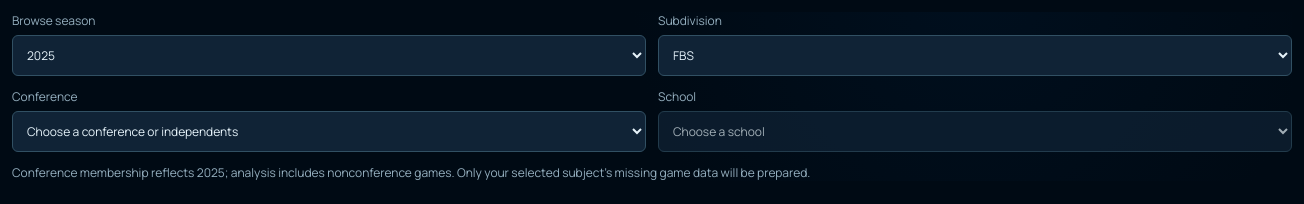
Scenario: loads only selected conference metadata, ignores stale responses, and exposes retryable errors
Select "Old Conference" in the dropdown labelled "Conference": x=329, y=132 left=12, top=111, right=646, bottom=152
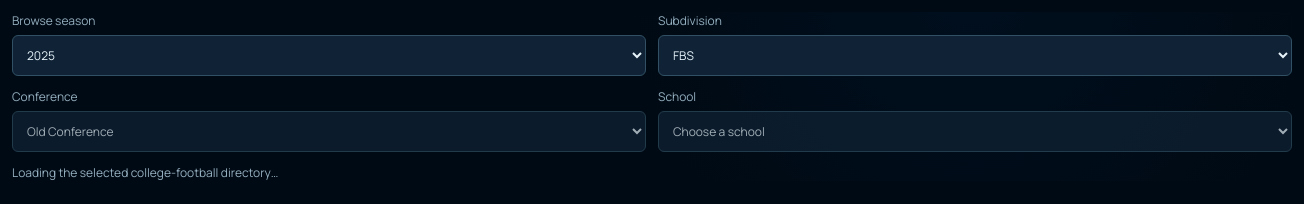
Select "2024" in the dropdown labelled "Browse season": x=329, y=56 left=12, top=35, right=646, bottom=76
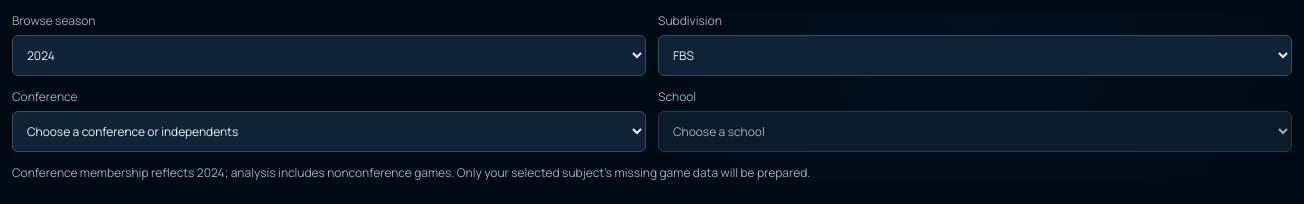
Now the dropdown labelled "Conference" is enabled
Select "Independents" in the dropdown labelled "Conference": x=329, y=132 left=12, top=111, right=646, bottom=152
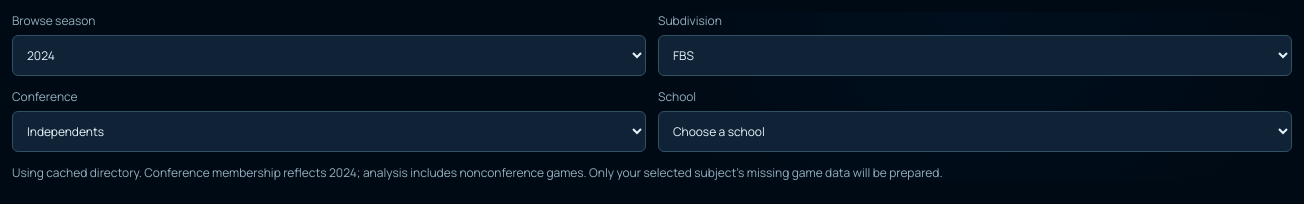
Select "Selected School" in the dropdown labelled "School": x=975, y=132 left=658, top=111, right=1292, bottom=152
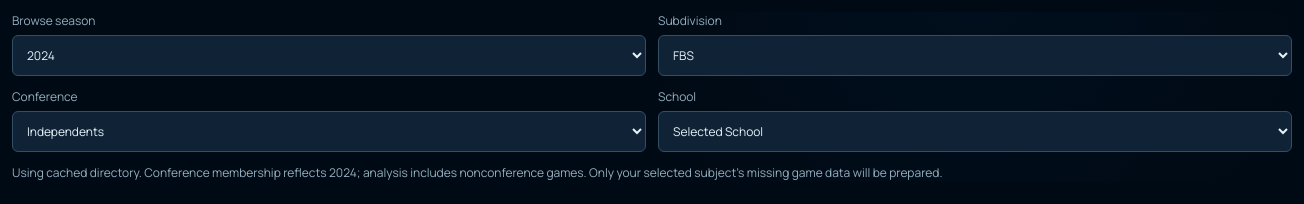
Select "2025" in the dropdown labelled "Browse season": x=329, y=56 left=12, top=35, right=646, bottom=76
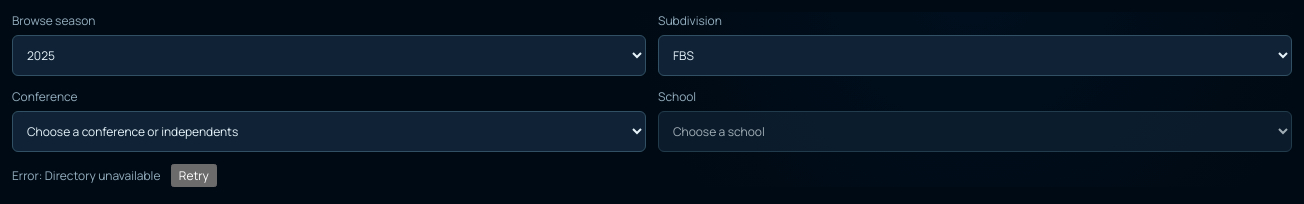
Now the message "Error: Directory unavailable Retry" is shown, box left=12, top=164, right=217, bottom=187
Now the button "Retry" is enabled, box left=171, top=164, right=217, bottom=187
